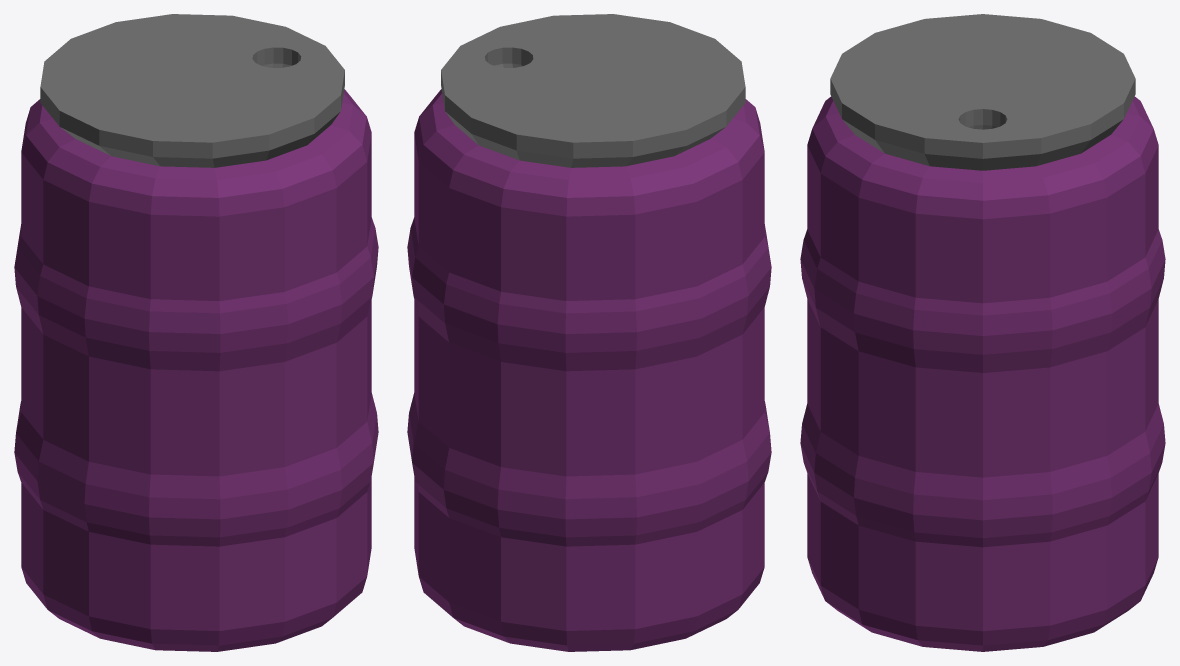
Rendered from SingleKeg.fbx.
3 renders of one model, left to right at view 1: azimuth 30°, elevation 25°; view 2: azimuth 150°, elevation 25°; view 3: azimuth 270°, elevation 25°, orthographic.
Visible parts, largest first — view 1: Single_Keg; view 2: Single_Keg; view 3: Single_Keg.
Part boxes in pixels (x1=…): Single_Keg: x1=14, y1=14, x2=378, y2=651; Single_Keg: x1=407, y1=14, x2=771, y2=651; Single_Keg: x1=800, y1=14, x2=1165, y2=651.
Bounding box in the file's own units: 208 × 320 × 208.
